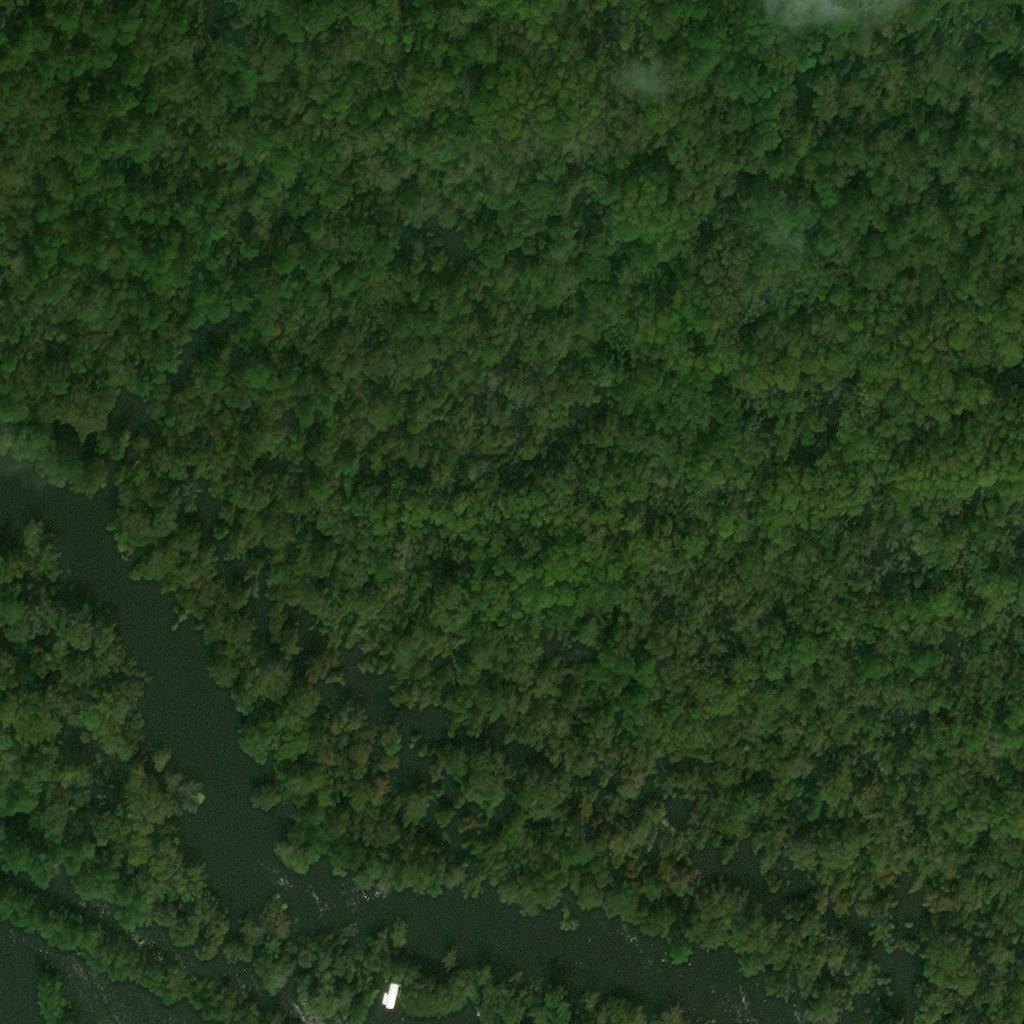major_damage: (476, 1000, 513, 1023), (380, 980, 399, 1006)
